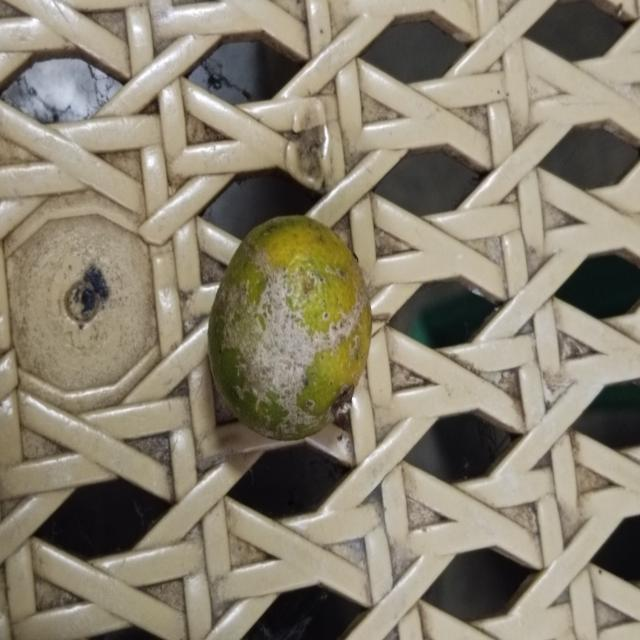thrips: (206, 213, 374, 452)
